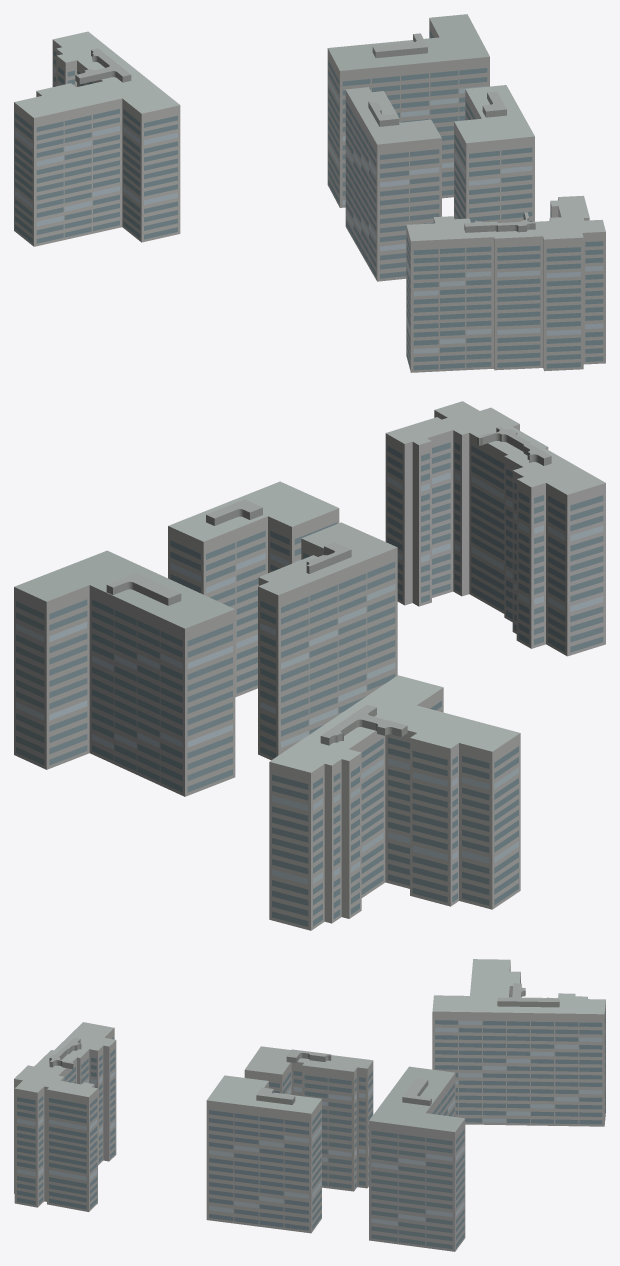
The model's file is apt-a10025527.glb.
The picture shows the model from 3 angles, top to bottom: view 1: azimuth 30°, elevation 25°; view 2: azimuth 150°, elevation 25°; view 3: azimuth 270°, elevation 25°; orthographic projection. The views are drawn at different scales.
Parts seen in each view (by area): view 1: apt-a10025527; view 2: apt-a10025527; view 3: apt-a10025527.
Boxes of the visible parts, box(x1,y1,x2,y2) form: apt-a10025527: box(14, 14, 605, 372); apt-a10025527: box(14, 401, 605, 930); apt-a10025527: box(14, 959, 605, 1251).
Size of the model in its own units: 148 by 47.81 by 205.
